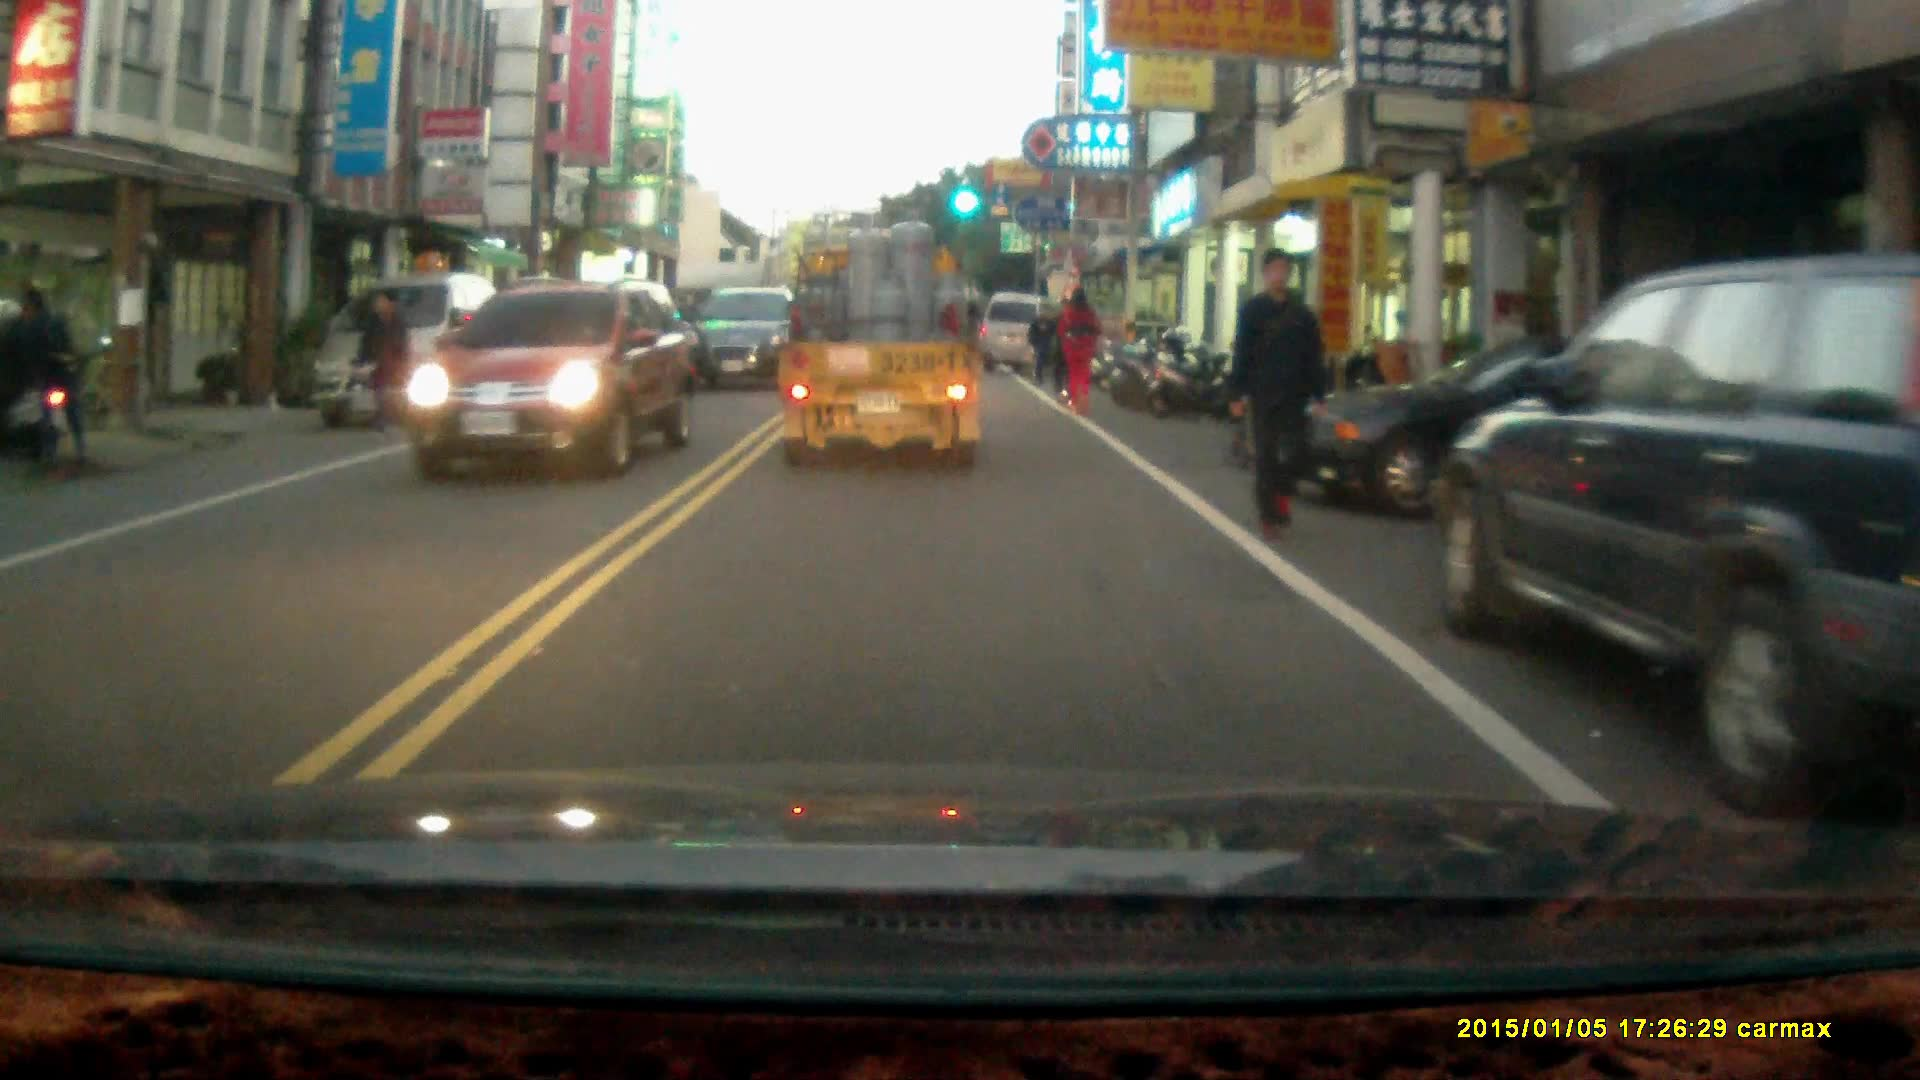pedestrian: (1229, 244, 1329, 542), (20, 279, 96, 467), (356, 285, 411, 434), (1056, 279, 1097, 409), (1027, 298, 1059, 383)
rider: (0, 292, 73, 462)
vehicle: (1426, 251, 1920, 824), (1300, 333, 1771, 511), (393, 281, 698, 479), (775, 208, 984, 478), (314, 275, 498, 427), (690, 281, 793, 393), (984, 290, 1063, 379)
